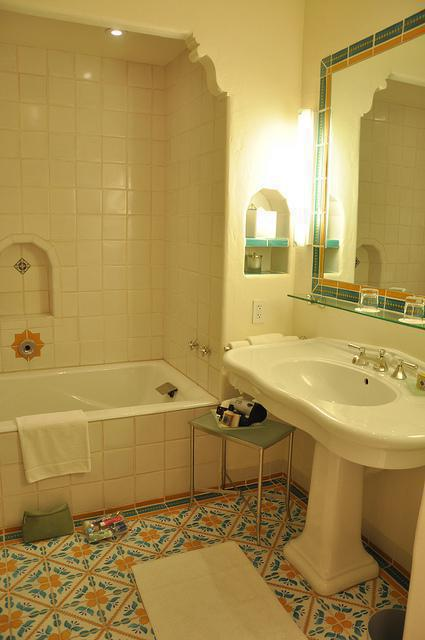Lavamanos: (225, 330, 424, 470)
